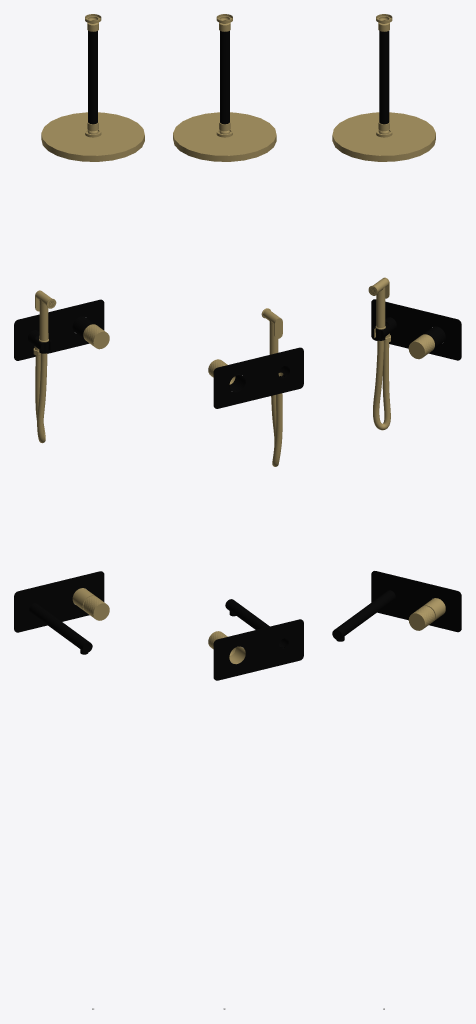
File: STICK_BOHEME_05.glb
3 renders of one model, left to right at view 1: azimuth 30°, elevation 25°; view 2: azimuth 210°, elevation 25°; view 3: azimuth 330°, elevation 25°, orthographic.
Parts seen in each view (by area): view 1: Group022; view 2: Group022; view 3: Group022.
Boxes of the visible parts, x1,y1,x2,y2 form: Group022: (14,14,144,654); Group022: (173,14,303,680); Group022: (332,14,461,641).
Size of the model in its own units: 0.2321 by 2.43 by 0.2618.
